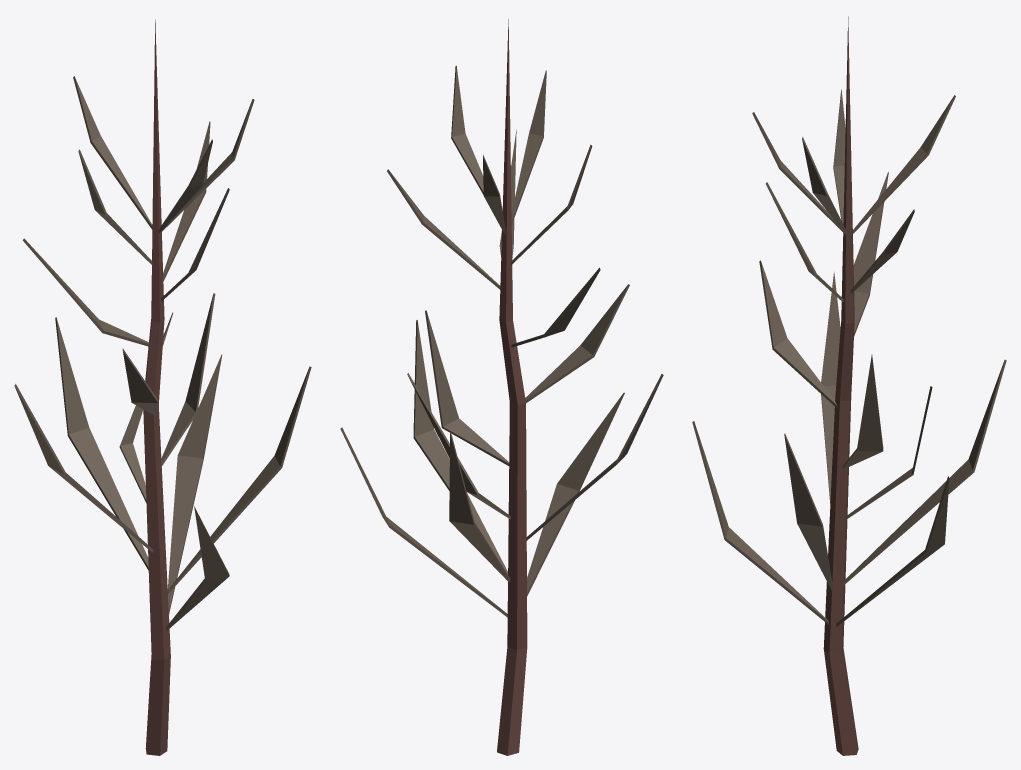
Rendered from plant_2.glb.
The picture shows the model from 3 angles, left to right: view 1: azimuth 30°, elevation 25°; view 2: azimuth 150°, elevation 25°; view 3: azimuth 270°, elevation 25°; orthographic projection.
Parts seen in each view (by area): view 1: plant_2; view 2: plant_2; view 3: plant_2.
Boxes of the visible parts, left/top/right/bottom form: plant_2: left=14, top=19, right=311, bottom=755; plant_2: left=340, top=19, right=663, bottom=755; plant_2: left=692, top=16, right=1006, bottom=755.
Bounding box in the file's own units: 0.343 × 0.8872 × 0.343.
1 material, 1 textured.
